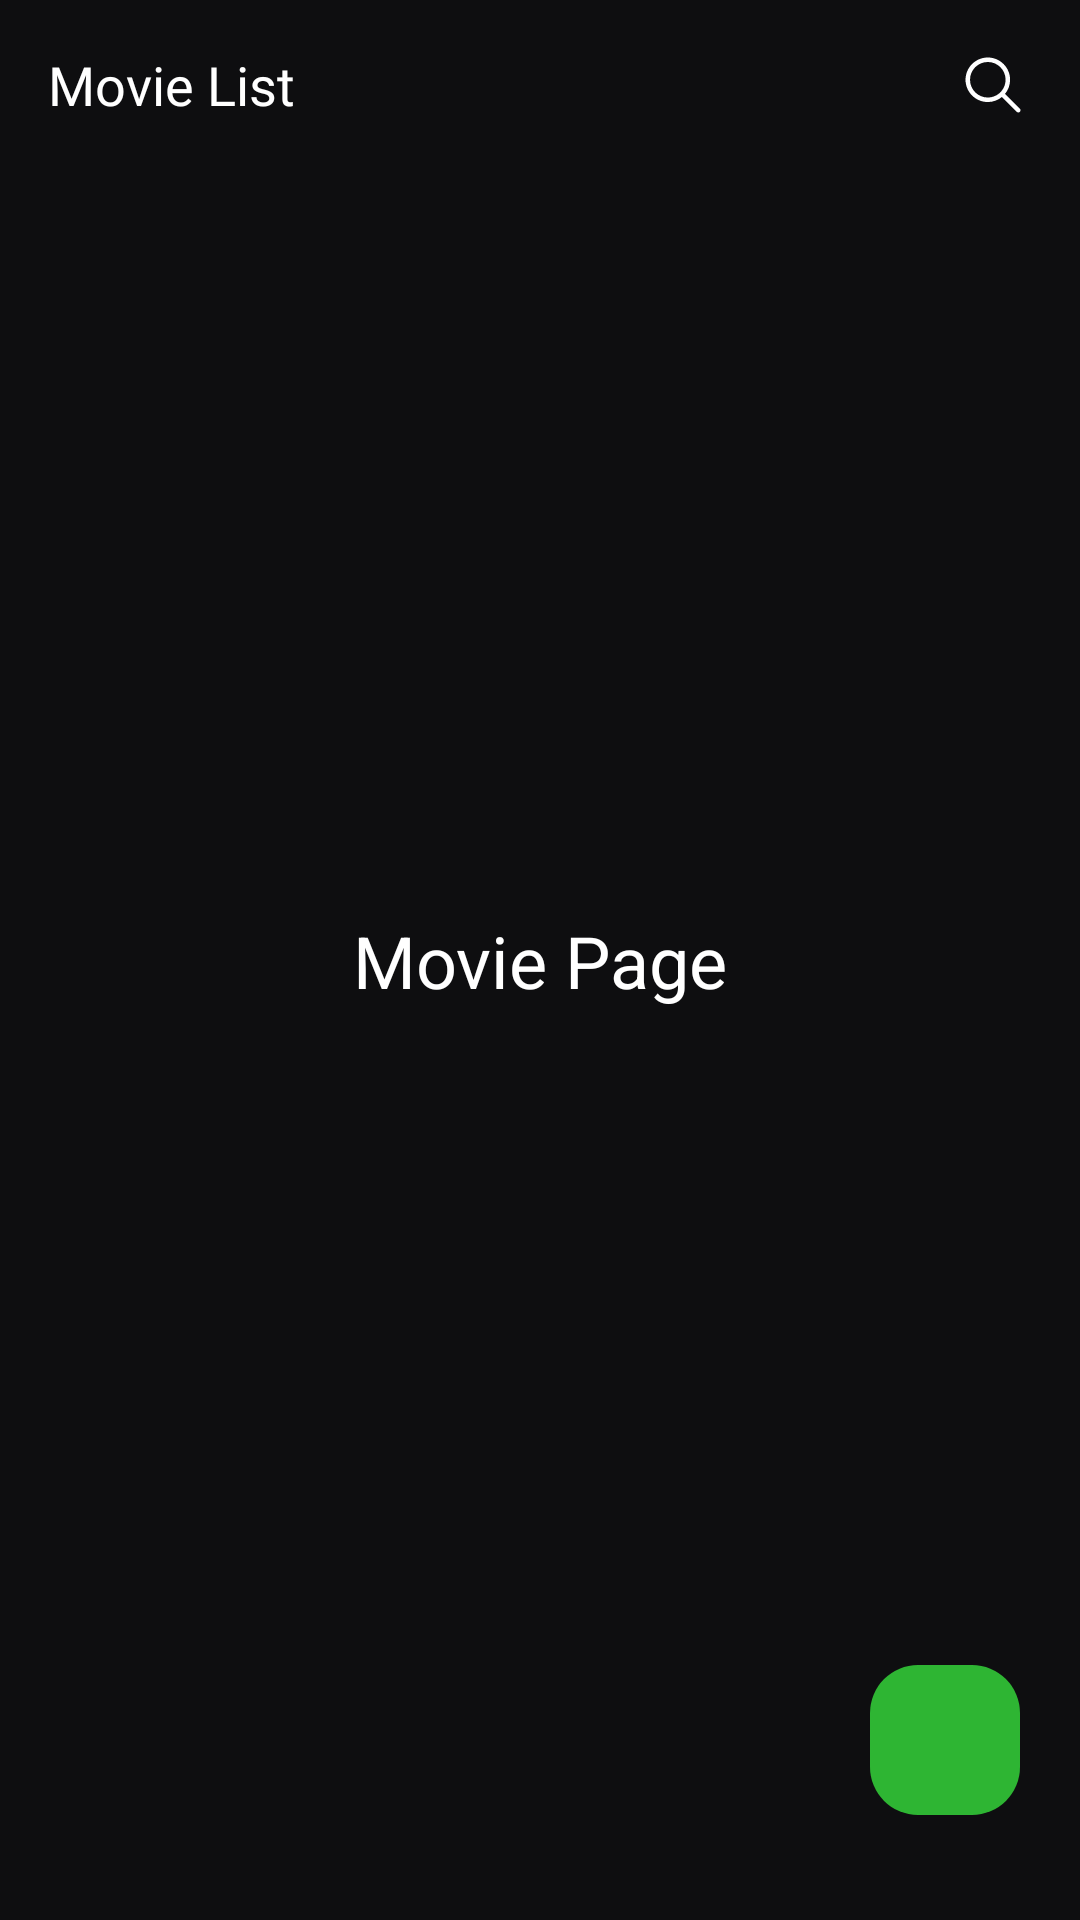

Named icons in this screenshot (1080x1920) and their bounding boxes, (x1, y1, x2, y2):
search: (965, 57, 1021, 113)
